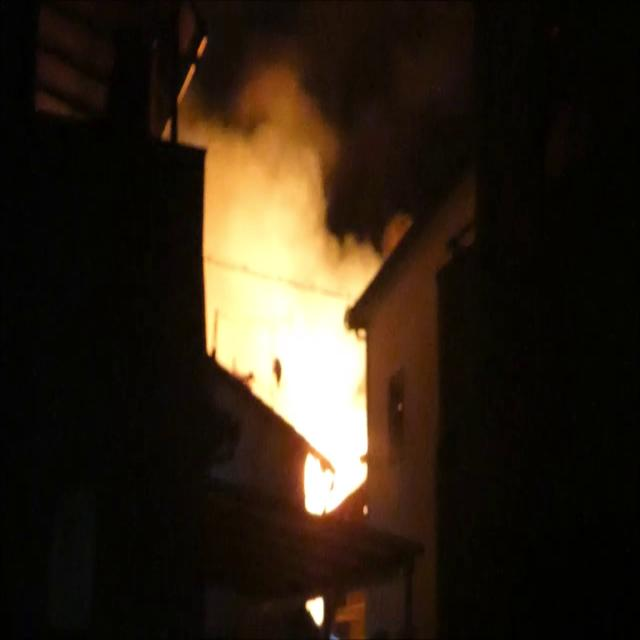Fire: (266, 262, 375, 515)
